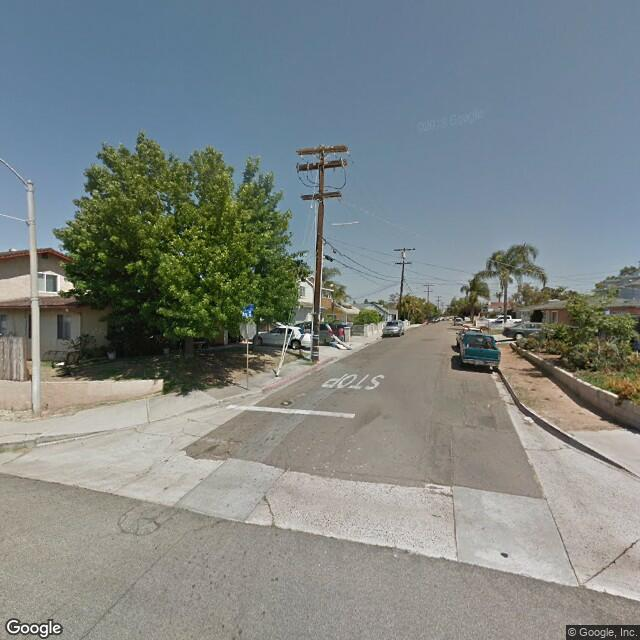litter: (522, 413, 532, 424)
